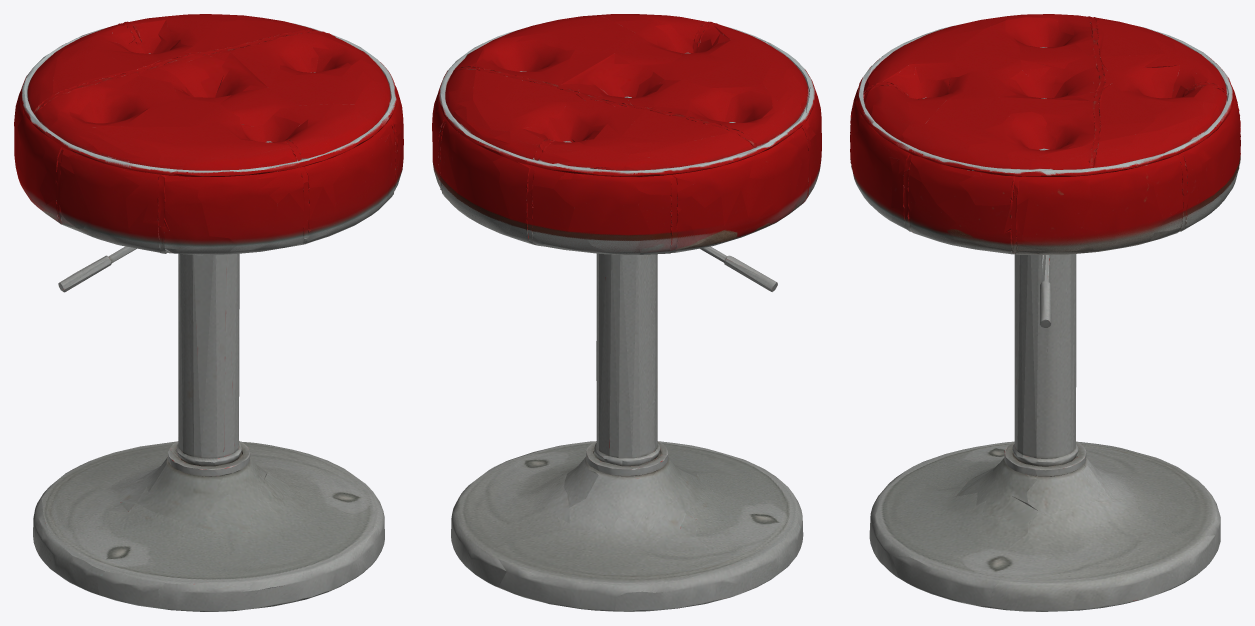
The model's file is casino_stool.glb.
3 views of the same model, side by side, from view 1: azimuth 30°, elevation 25°; view 2: azimuth 150°, elevation 25°; view 3: azimuth 270°, elevation 25° (orthographic).
Parts seen in each view (by area): view 1: Mesh_0; view 2: Mesh_0; view 3: Mesh_0.
Boxes of the visible parts, x1=… form: Mesh_0: x1=14, y1=14, x2=403, y2=611; Mesh_0: x1=432, y1=14, x2=821, y2=611; Mesh_0: x1=850, y1=14, x2=1240, y2=611.
Bounding box in the file's own units: 1.46 × 1.9 × 1.46.
Materials: 1 (1 with a texture image).
